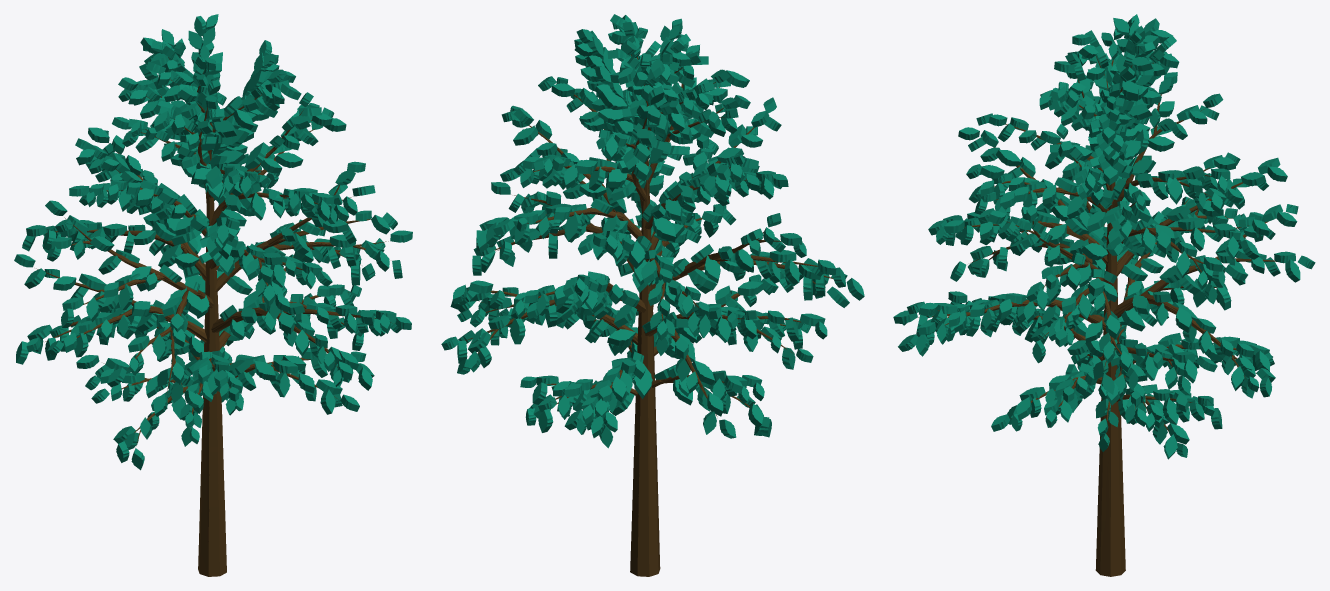
File: simpleTreeL.fbx
3 renders of one model, left to right at view 1: azimuth 30°, elevation 25°; view 2: azimuth 150°, elevation 25°; view 3: azimuth 270°, elevation 25°, orthographic. The views are drawn at different scales.
Visible parts, largest first — view 1: simpleTreeL, simpleTreeL1, simpleTreeL2; view 2: simpleTreeL, simpleTreeL1, simpleTreeL2; view 3: simpleTreeL, simpleTreeL1, simpleTreeL2.
Boxes of the visible parts, <box> form: simpleTreeL: <box>14,14,412,576</box>; simpleTreeL1: <box>16,14,411,573</box>; simpleTreeL2: <box>16,28,411,576</box>; simpleTreeL: <box>441,14,864,576</box>; simpleTreeL1: <box>443,15,864,559</box>; simpleTreeL2: <box>443,19,864,571</box>; simpleTreeL: <box>893,14,1315,574</box>; simpleTreeL1: <box>894,15,1310,555</box>; simpleTreeL2: <box>894,18,1311,576</box>.
Size of the model in its own units: 390 by 580 by 407.
